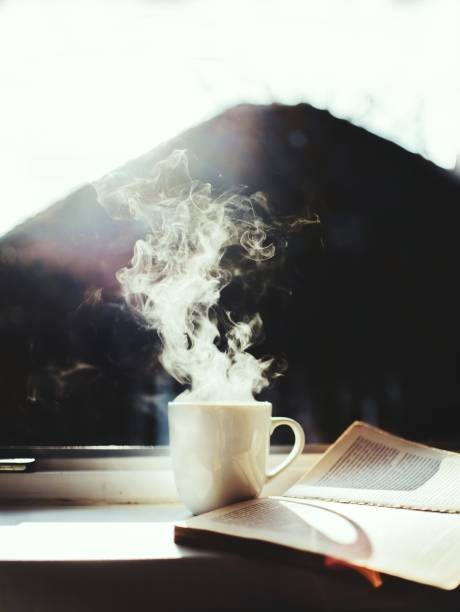smoke: (120, 188, 271, 403)
